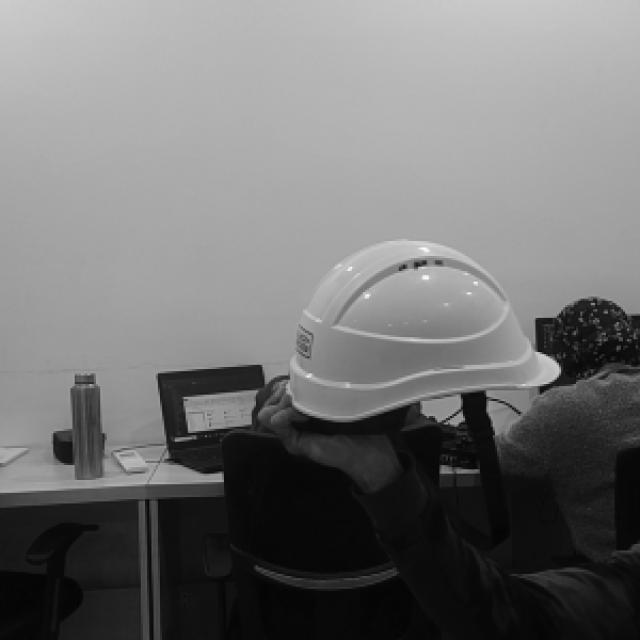safety_helmet: (292, 240, 561, 421)
